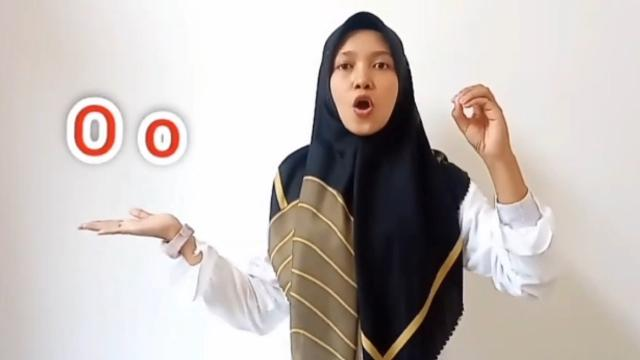O: (447, 79, 515, 164)
